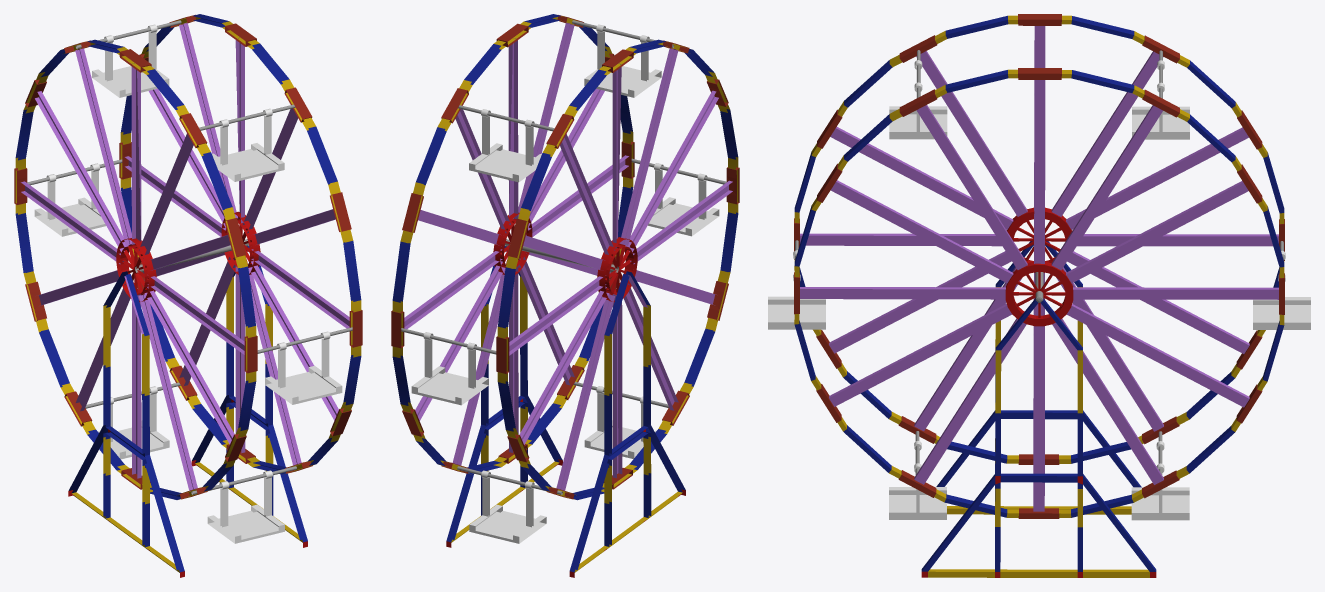
File: roue.fbx
3 renders of one model, left to right at view 1: azimuth 30°, elevation 25°; view 2: azimuth 150°, elevation 25°; view 3: azimuth 270°, elevation 25°, orthographic. The views are drawn at different scales.
Parts seen in each view (by area): view 1: Cylinder055, peid, rouesiege002, rouesiege003, rouesiege001, rouesiege, rouesiege005, rouesiege004; view 2: Cylinder055, peid, rouesiege005, rouesiege004, rouesiege, rouesiege001, rouesiege002, rouesiege003; view 3: Cylinder055, peid, rouesiege004, rouesiege003, rouesiege002, rouesiege005, rouesiege001, rouesiege.
Boxes of the visible parts, x1,y1,x2,y2 form: Cylinder055: (14, 14, 362, 499); peid: (68, 246, 307, 577); rouesiege002: (265, 331, 342, 404); rouesiege003: (207, 470, 284, 543); rouesiege001: (212, 108, 284, 181); rouesiege: (92, 24, 169, 97); rouesiege005: (34, 163, 106, 236); rouesiege004: (98, 386, 169, 459); Cylinder055: (391, 14, 739, 500); peid: (446, 245, 685, 577); rouesiege005: (411, 332, 488, 405); rouesiege004: (469, 470, 546, 543); rouesiege: (469, 109, 541, 182); rouesiege001: (584, 24, 661, 97); rouesiege002: (648, 163, 719, 236); rouesiege003: (584, 386, 656, 458); Cylinder055: (794, 14, 1284, 518); peid: (921, 241, 1156, 577); rouesiege004: (1131, 441, 1189, 520); rouesiege003: (889, 441, 946, 519); rouesiege002: (768, 250, 825, 329); rouesiege005: (1253, 250, 1310, 329); rouesiege001: (889, 60, 947, 139); rouesiege: (1132, 60, 1189, 139).
Size of the model in its own units: 32.12 by 113 by 111.
